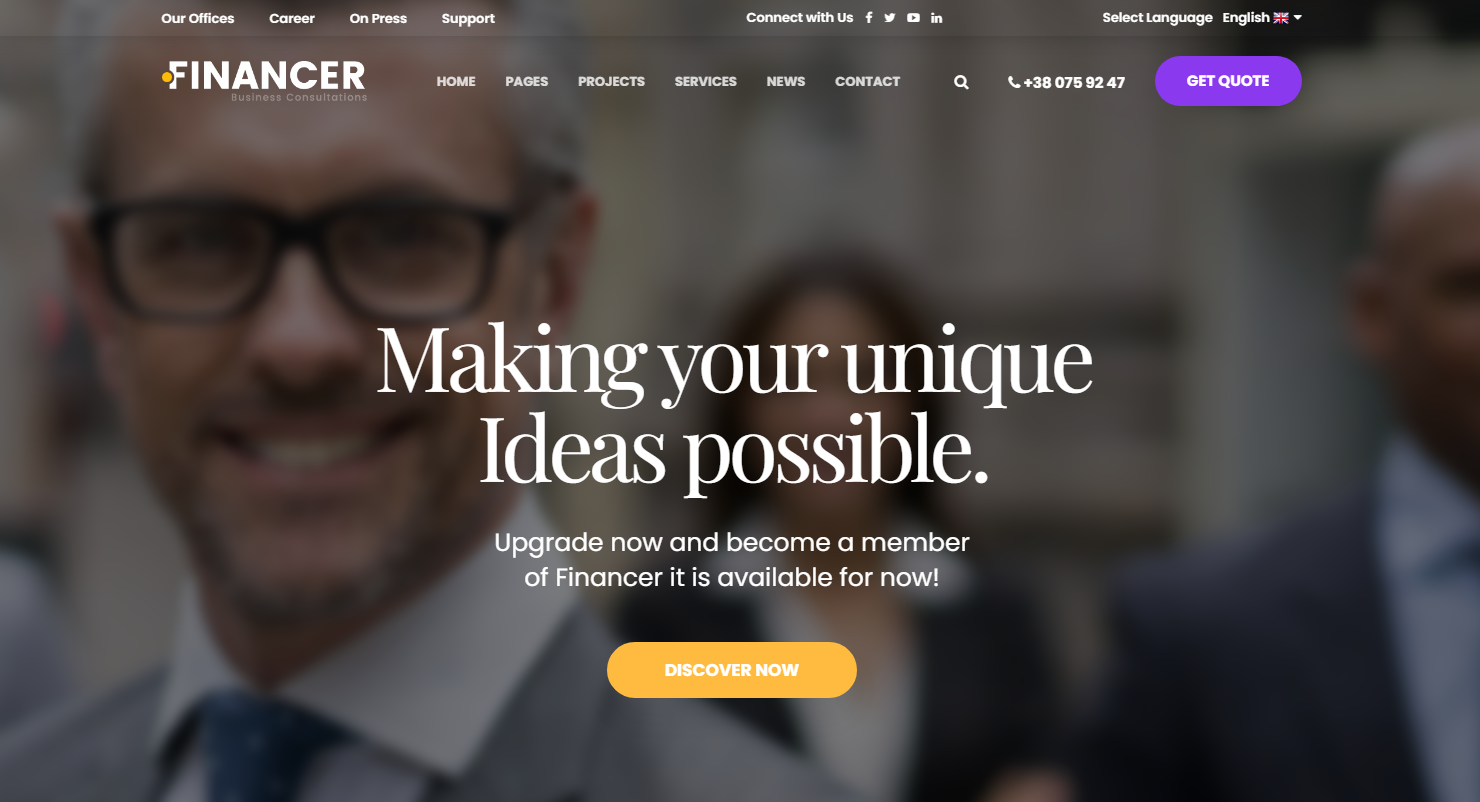menu-bar: (45, 4, 1454, 205)
